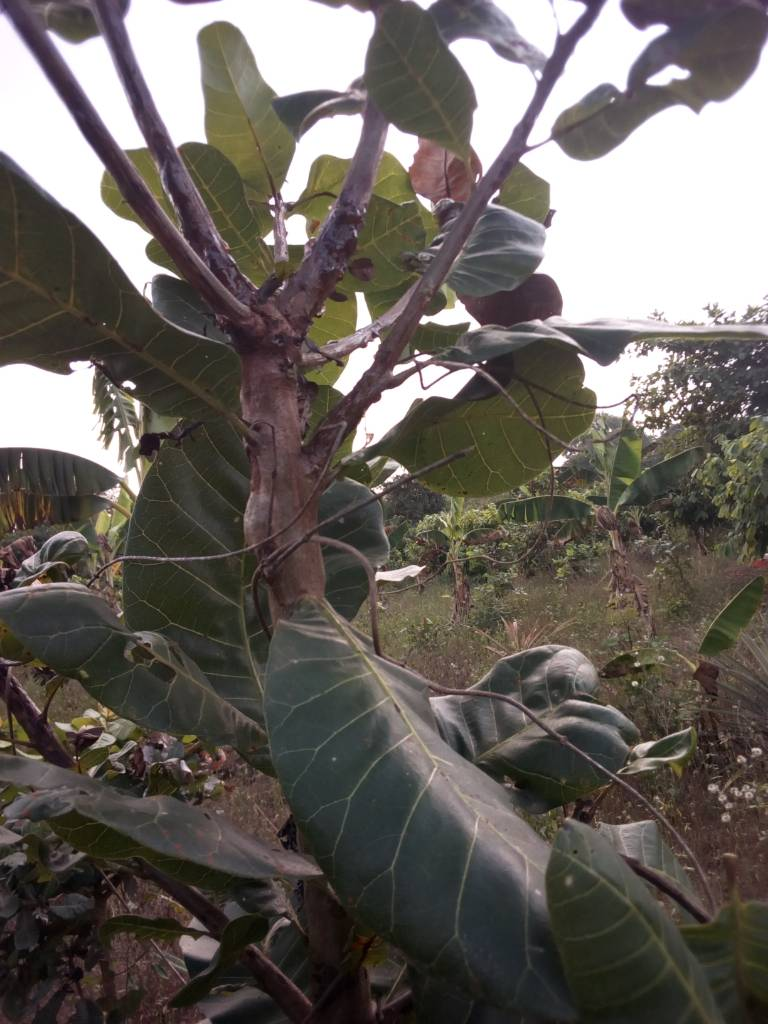Bactériose: (2, 582, 254, 733), (18, 792, 315, 885), (135, 427, 183, 457)
